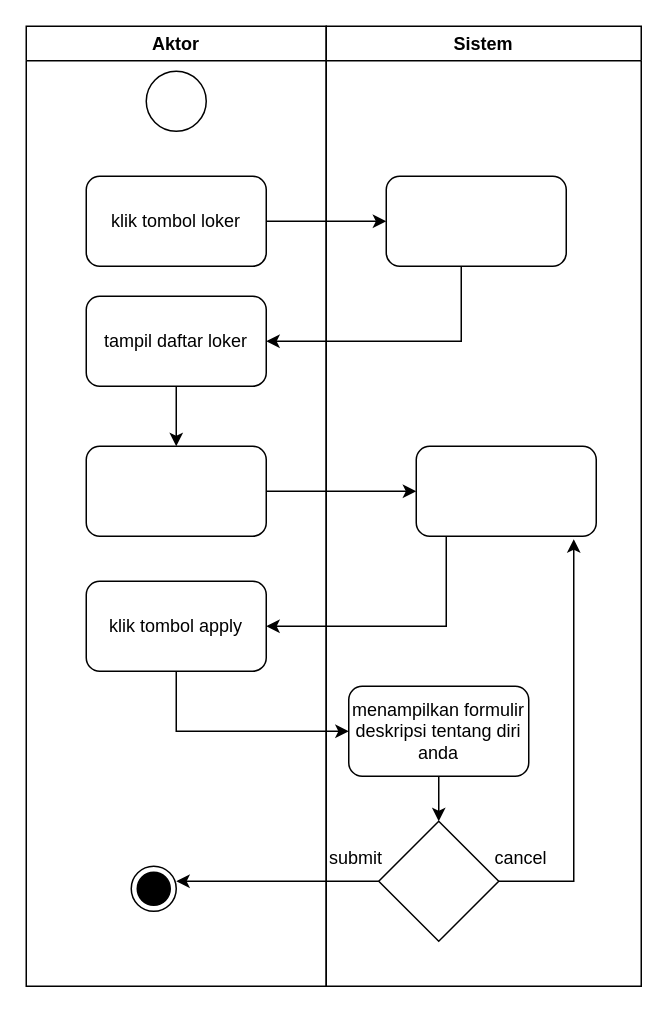
This 668x1013 diagram has some shape labels left out. Each missing label, with the centre of its shape:
menampilkan daftar loker: point (475, 220)
menampilkan deskripsi loker yang bersangkutan: point (505, 490)
pilih salah satu daftar loker dan klik detail: point (175, 490)
